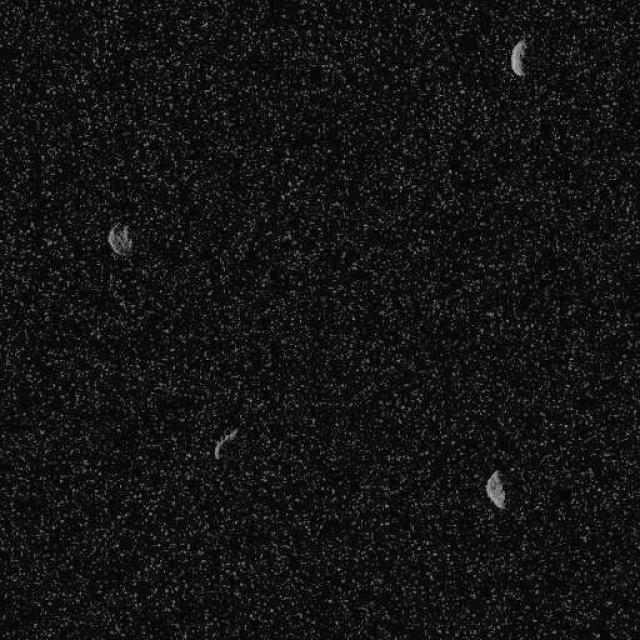D2: (106, 222, 134, 258), (484, 469, 506, 510), (212, 426, 238, 460), (510, 38, 528, 76)
